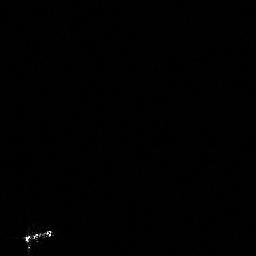ship: (21, 227, 56, 252)
